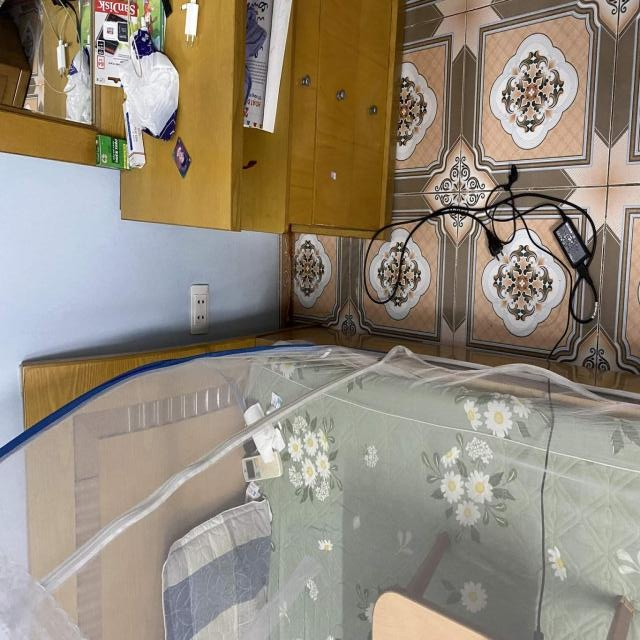outlet: (190, 284, 209, 335)
